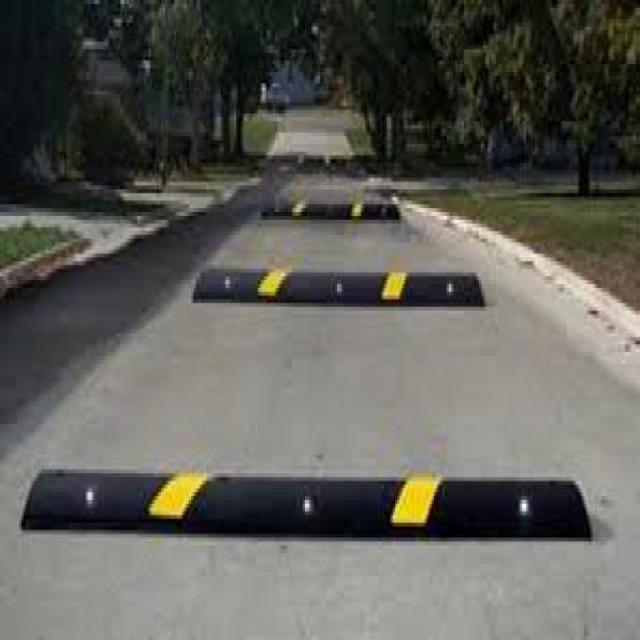Marked Bump: (28, 462, 595, 548), (193, 265, 485, 313), (273, 198, 410, 228)
